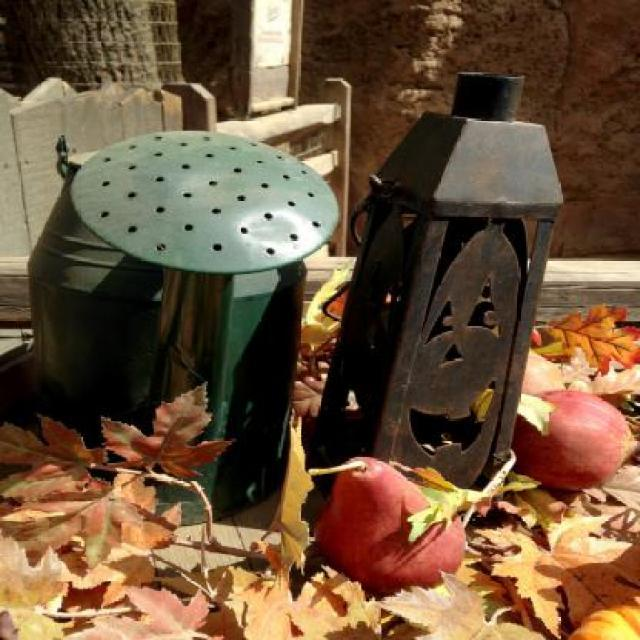Pear: (310, 458, 468, 594), (502, 392, 627, 494), (522, 346, 564, 403)
